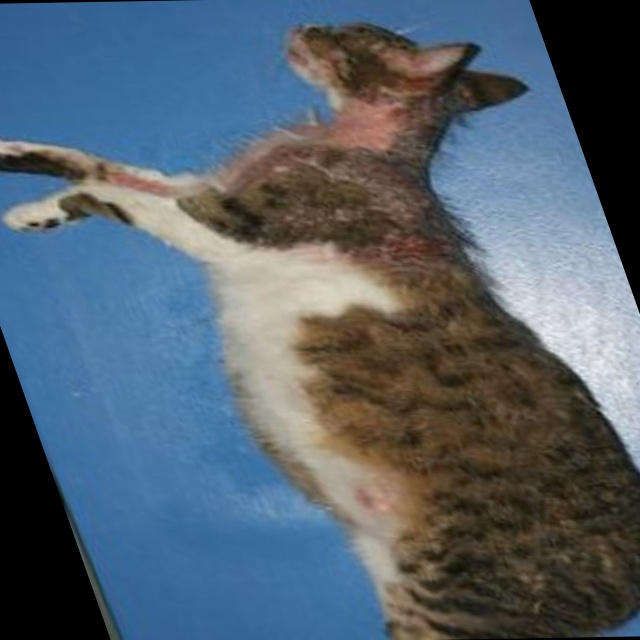hairloss: (193, 249, 475, 563)
